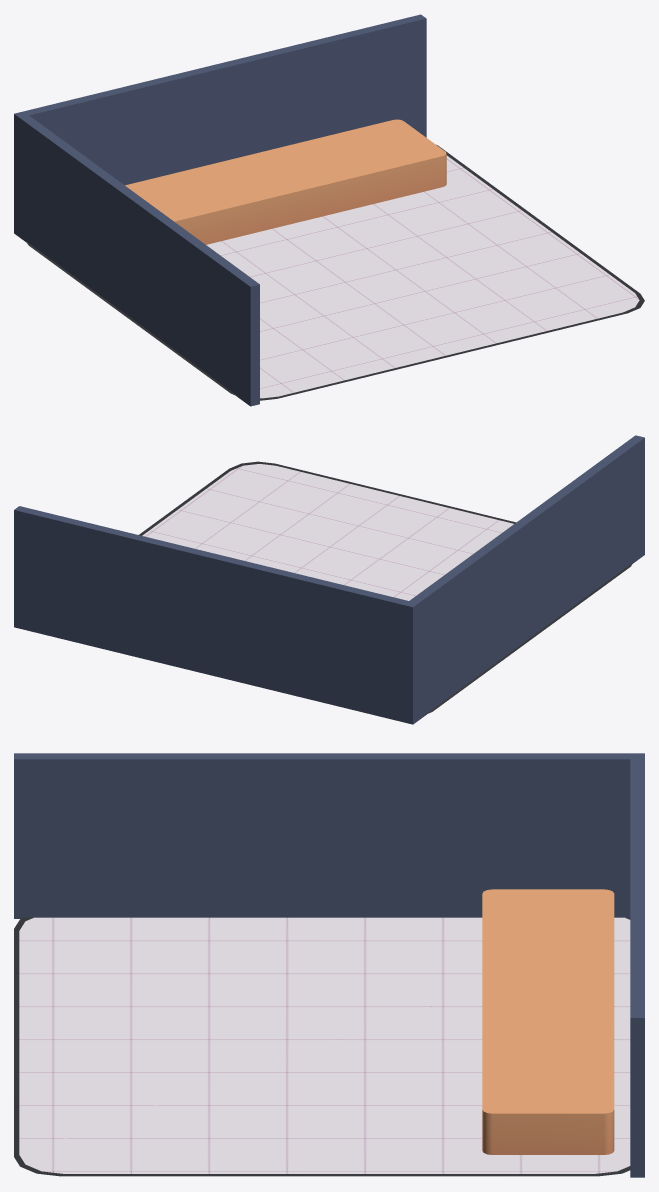
The model's file is water_zone.fbx.
3 renders of one model, top to bottom at view 1: azimuth 30°, elevation 25°; view 2: azimuth 150°, elevation 25°; view 3: azimuth 270°, elevation 25°, orthographic. The views are drawn at different scales.
Visible parts, largest first — view 1: map1_duplicated_01, pCube45, pCube44, duplicated_01; view 2: pCube45, pCube44, map1_duplicated_01; view 3: map1_duplicated_01, pCube44, duplicated_01, pCube45.
Boxes of the visible parts, x1,y1,x2,y2 form: map1_duplicated_01: (26, 144, 644, 400); pCube45: (24, 14, 426, 185); pCube44: (14, 111, 259, 406); duplicated_01: (125, 119, 446, 244); pCube45: (14, 506, 408, 722); pCube44: (403, 435, 644, 724); map1_duplicated_01: (139, 461, 633, 714); map1_duplicated_01: (14, 917, 630, 1176); pCube44: (14, 753, 644, 918); duplicated_01: (482, 889, 614, 1154); pCube45: (630, 759, 644, 1177).
Size of the model in its own units: 12.08 by 3.37 by 12.08.
